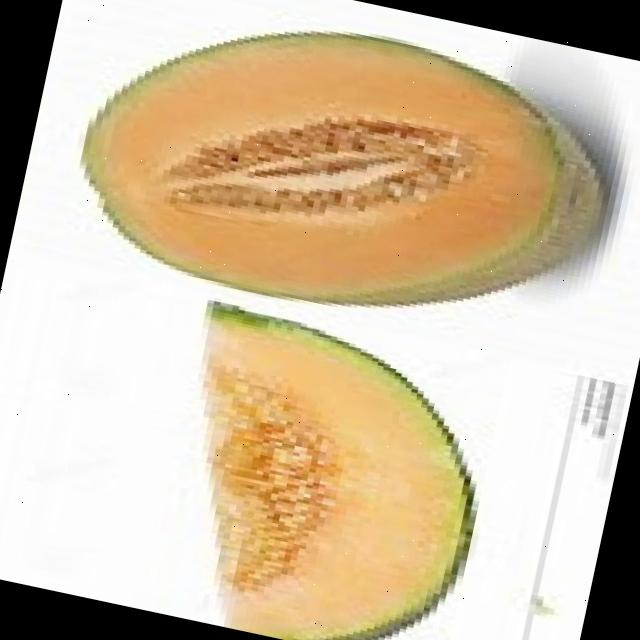Hami Melon: (62, 0, 627, 359), (142, 302, 507, 640)
